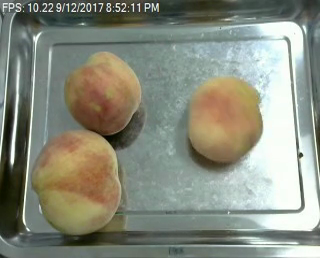Peach: (33, 127, 122, 236), (63, 49, 141, 136), (187, 75, 263, 164)
